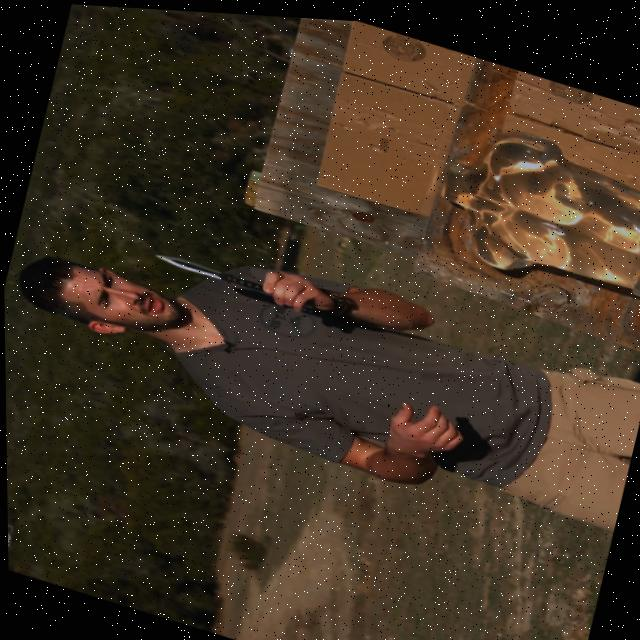knife: (144, 245, 276, 297)
